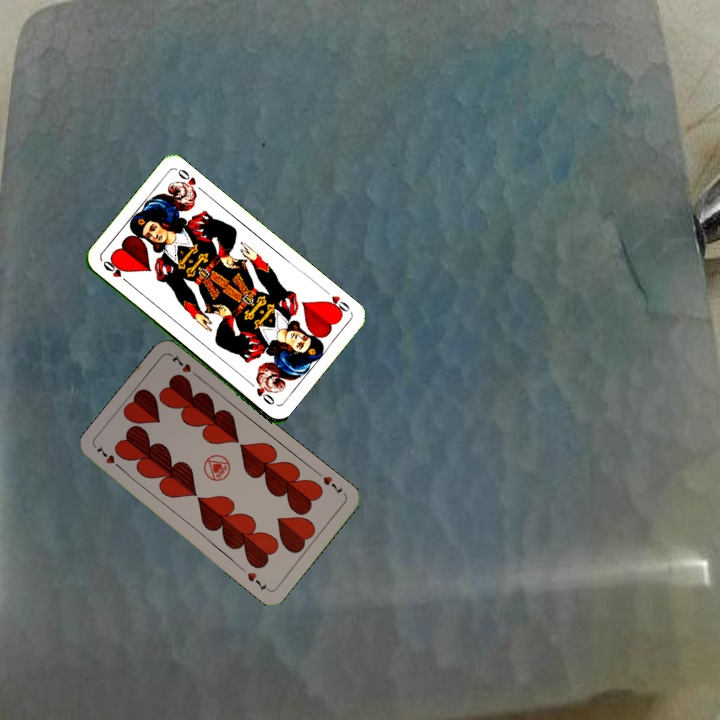H7: (92, 442, 126, 473), (313, 468, 345, 497)
HO: (99, 257, 133, 287), (321, 291, 353, 318)
